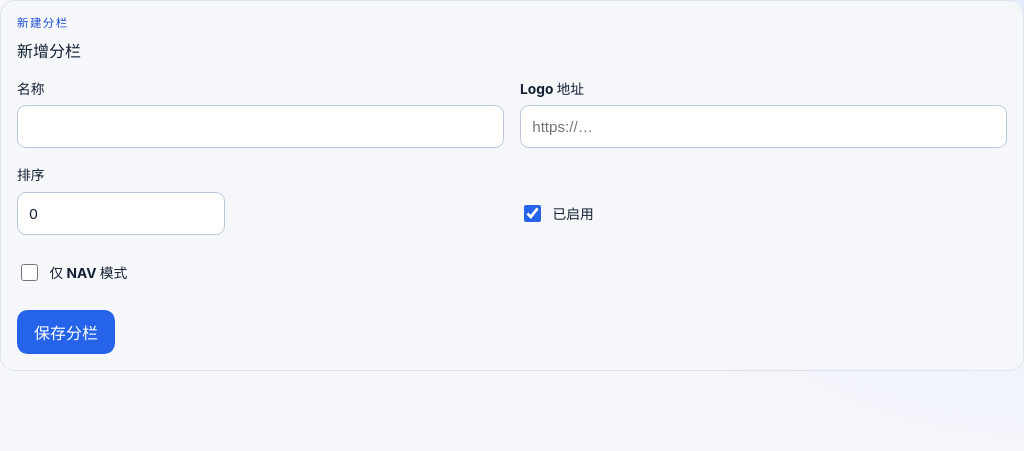
admin UI › rejects non-HTTPS logo URLs before saving a panel
Type "Main panel" into the field labelled "名称" at (260,127), box [17,105,504,148]
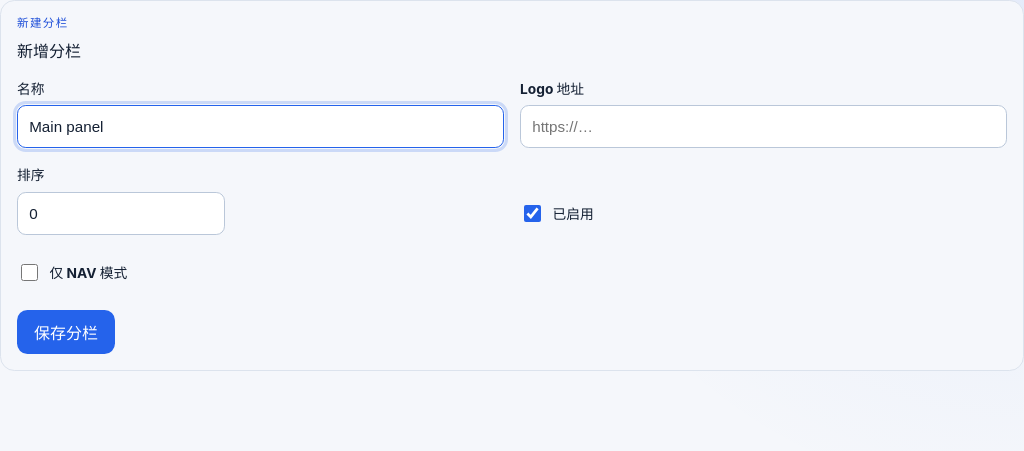
Type "http://assets.example.test/logo.svg" into the field labelled "Logo 地址" at (764,127), box [520,105,1007,148]
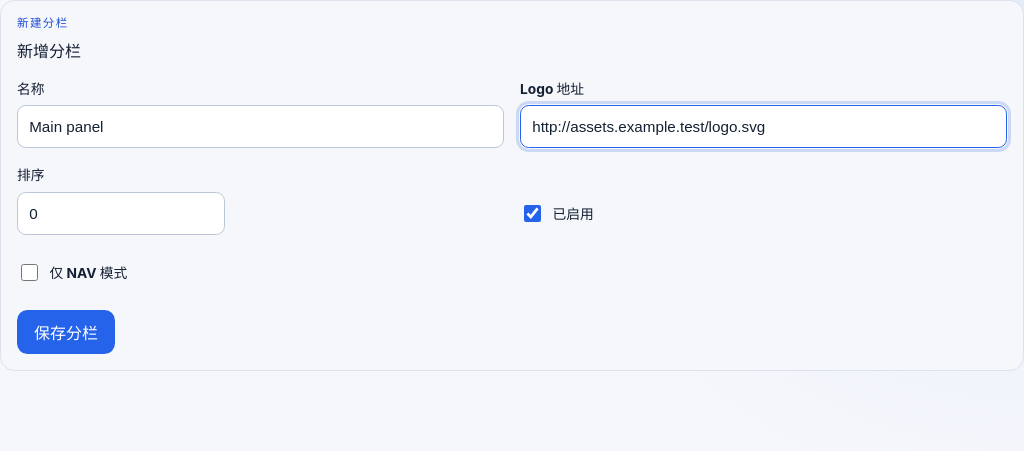
Click the button "保存分栏" at (66,332), box [17,310,115,354]
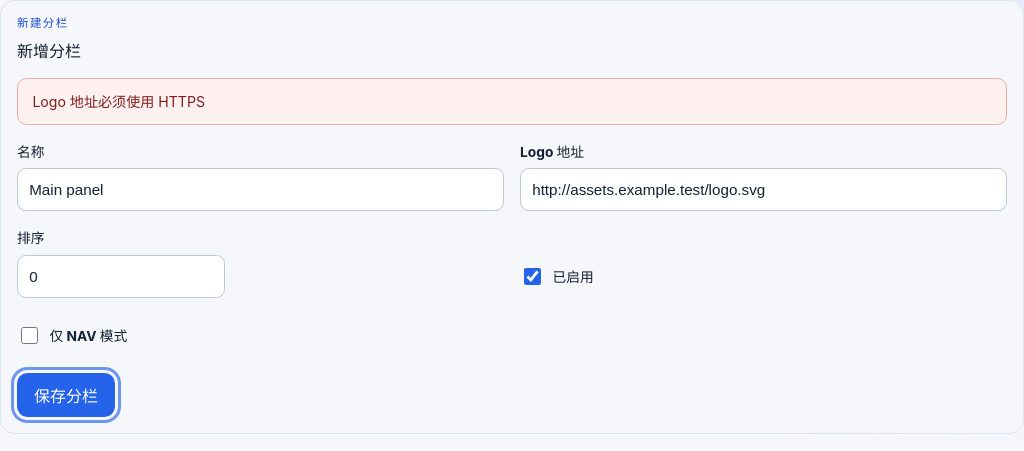
Expected: the message reads "Logo 地址必须使用 HTTPS", [32,93,205,110]
